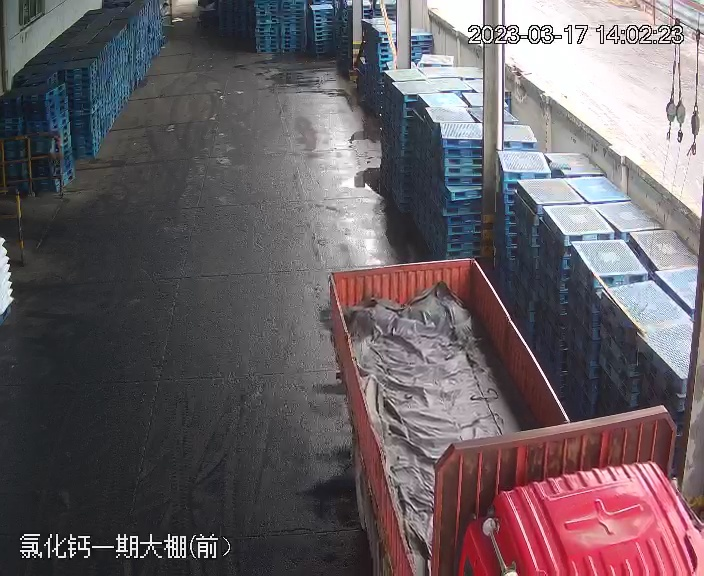truck: (320, 252, 701, 576)
